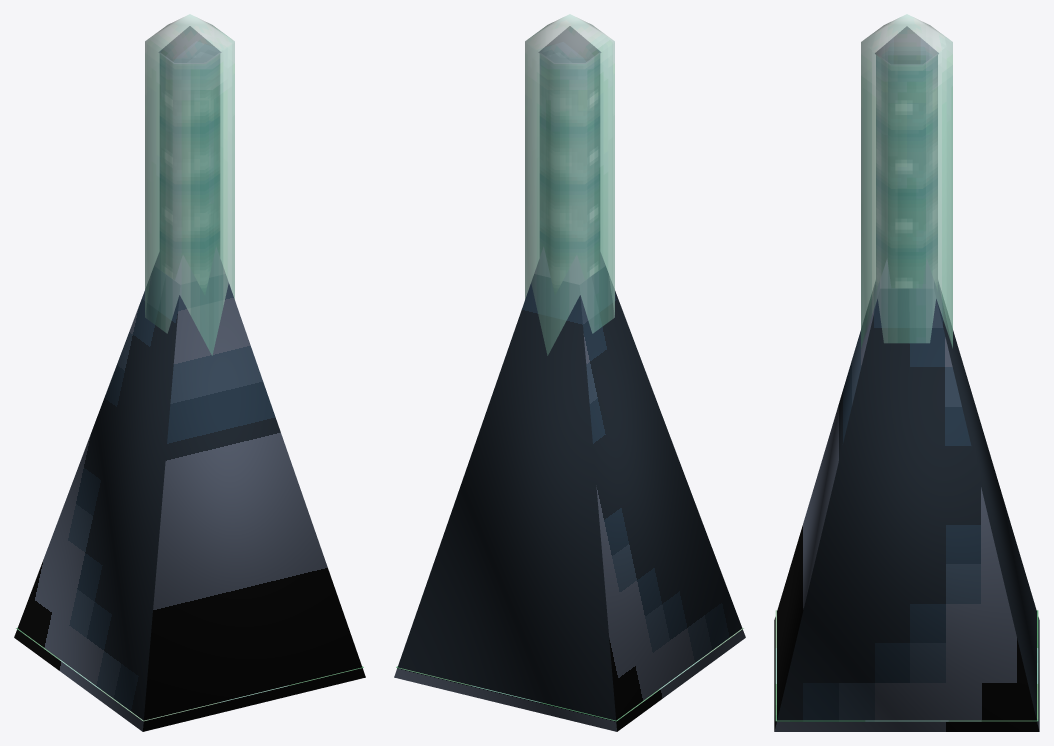
3 views of the same model, side by side, from view 1: azimuth 30°, elevation 25°; view 2: azimuth 150°, elevation 25°; view 3: azimuth 270°, elevation 25° (orthographic). The views are drawn at different scales.
Visible parts, largest first — view 1: 3306IMIG07_10; view 2: 3306IMIG07_10; view 3: 3306IMIG07_10.
Part boxes in pixels (x1,y1,x2,y2): 3306IMIG07_10: [14, 14, 365, 731]; 3306IMIG07_10: [394, 14, 745, 731]; 3306IMIG07_10: [774, 14, 1039, 731].
Size of the model in its own units: 0.6475 by 1.78 by 0.6475.
4 materials, 4 textured.
